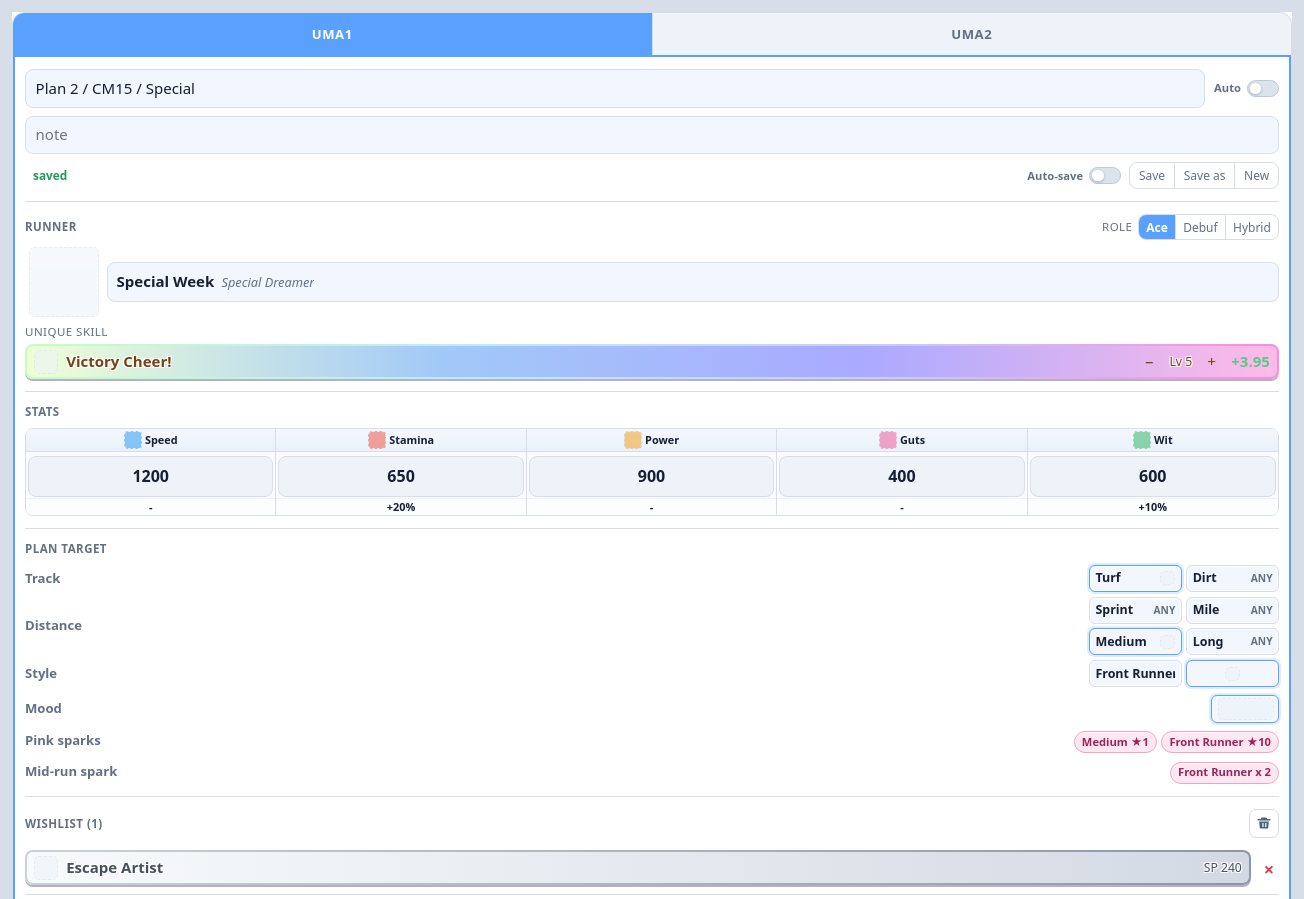
Test case: PlannerSidebar › expands skill technical detail with conditions and readable effects
Click the text "Victory Cheer!".
click(119, 362)  # box x1=66 y1=351 x2=172 y2=373
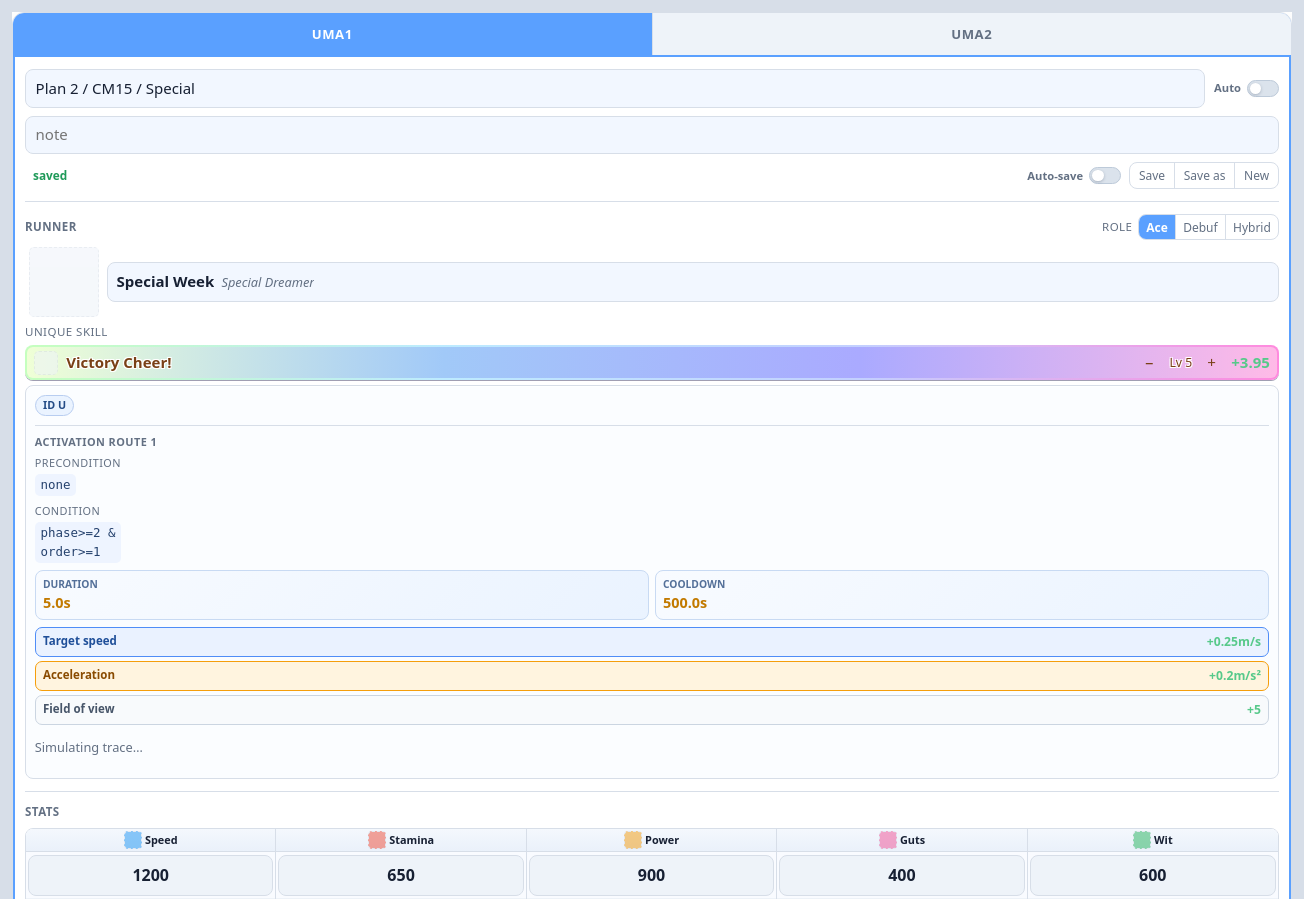
Expected: the heading "Activation route 1" is shown, x1=35 y1=434 x2=157 y2=449
Expected: the text "phase>=2 &" is shown, x1=40 y1=524 x2=116 y2=542
Expected: the text "order>=1" is shown, x1=40 y1=544 x2=100 y2=559
